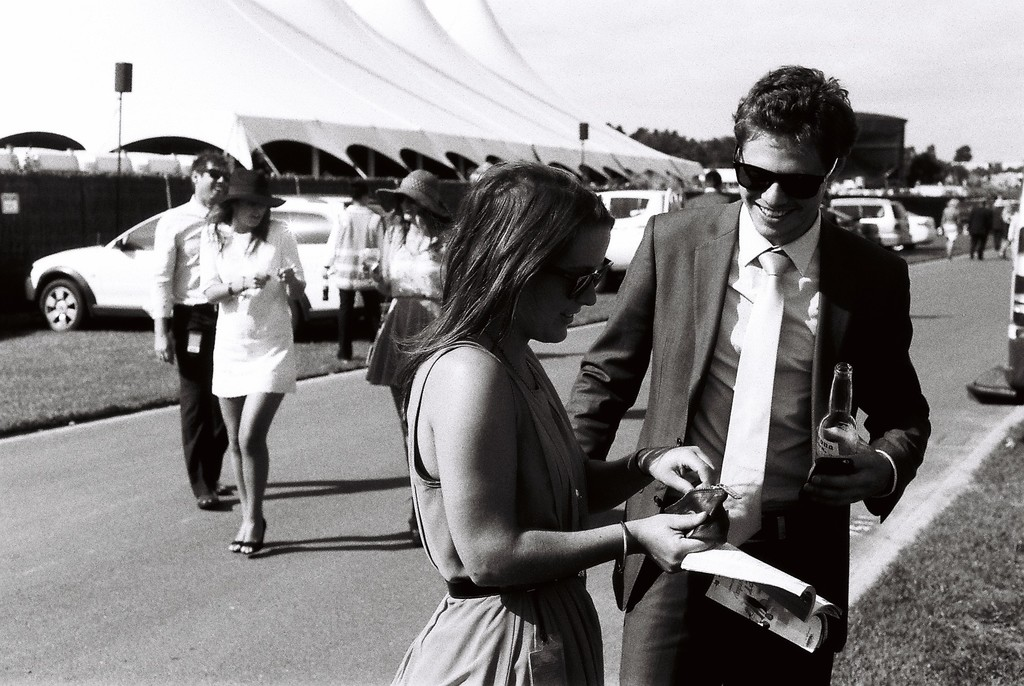Car: (59, 188, 376, 344), (592, 186, 679, 293), (832, 192, 912, 244), (893, 210, 935, 251)
